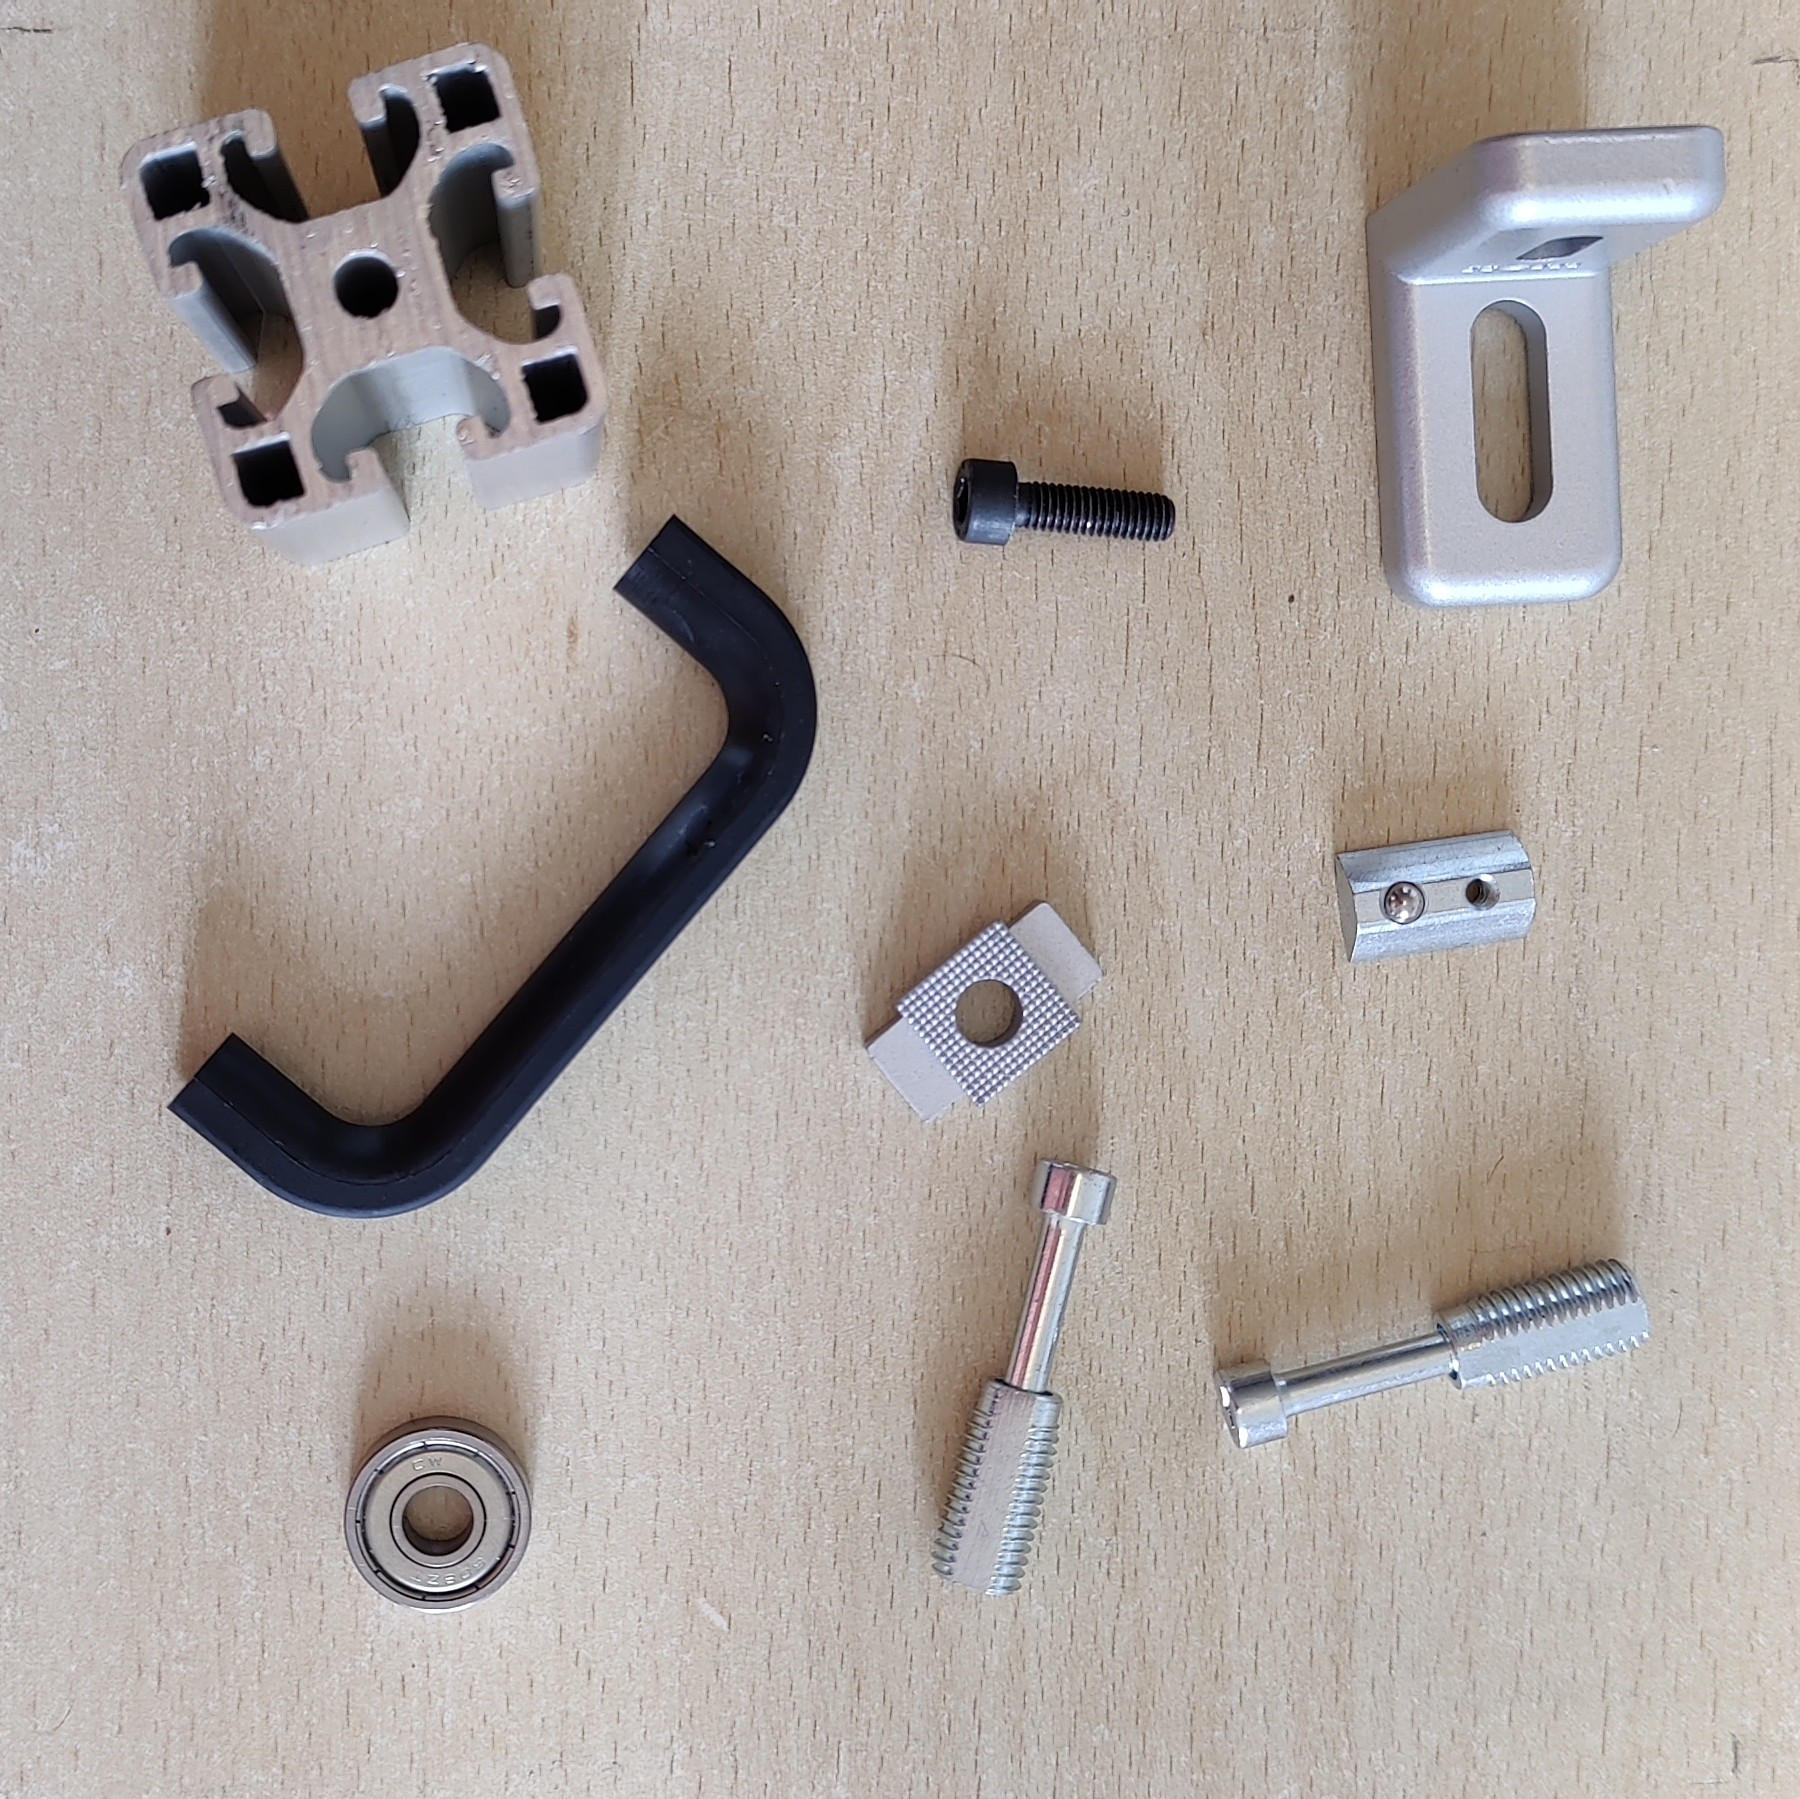Aluminium Extension: (115, 38, 609, 567)
Ball Bearing: (343, 1410, 532, 1614)
Multiwinkel: (1360, 122, 1729, 613)
Pull Handle: (163, 511, 822, 1221)
Shoulder Socket Head Cap Screw: (1214, 1255, 1652, 1451), (926, 1156, 1117, 1598)
Socket Head Cap Screw: (949, 456, 1177, 550)
T Nut Square: (861, 895, 1105, 1125)
T Spring Nut: (1332, 825, 1538, 967)
